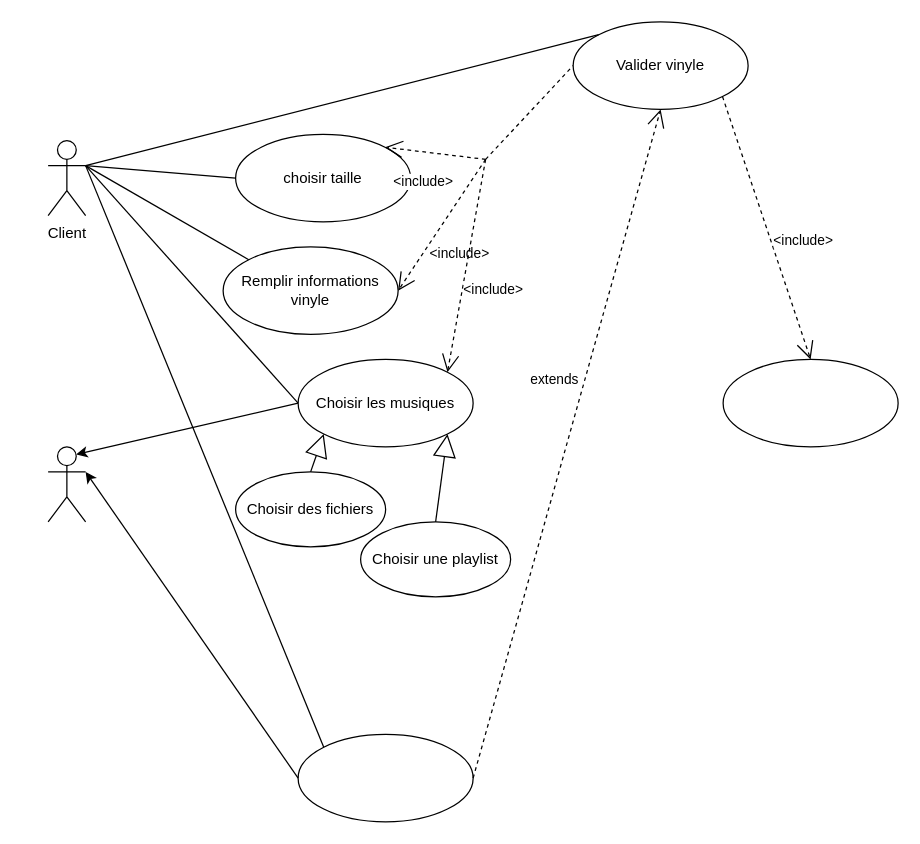
Image size: 920x844. Some labels were removed from this diagram. Here are the shapes that lost their labels. From the top down, the box of each, then its label:
(722, 358, 898, 447): Ajout panier
(47, 446, 86, 522): Collaborateur
(297, 733, 473, 822): Ajouter collaborateur
